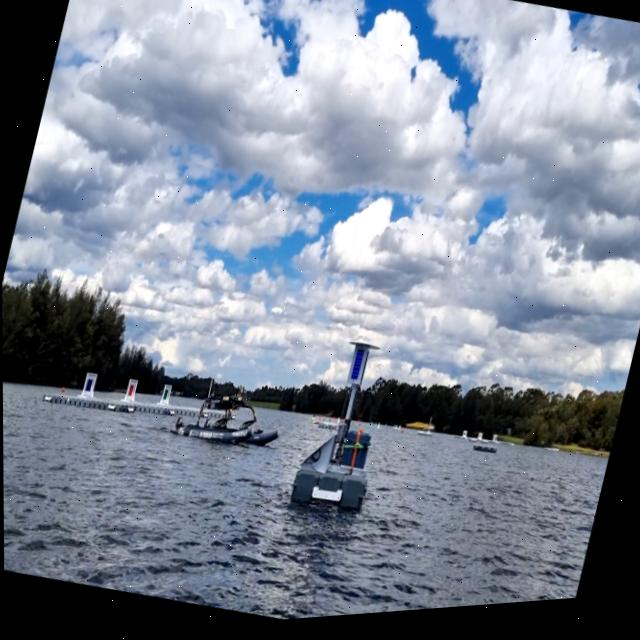led: (347, 351, 366, 389)
